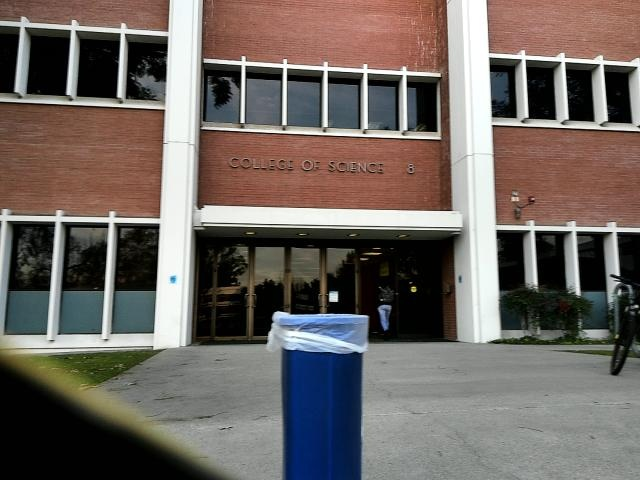trashcan_open: (266, 306, 372, 480)
